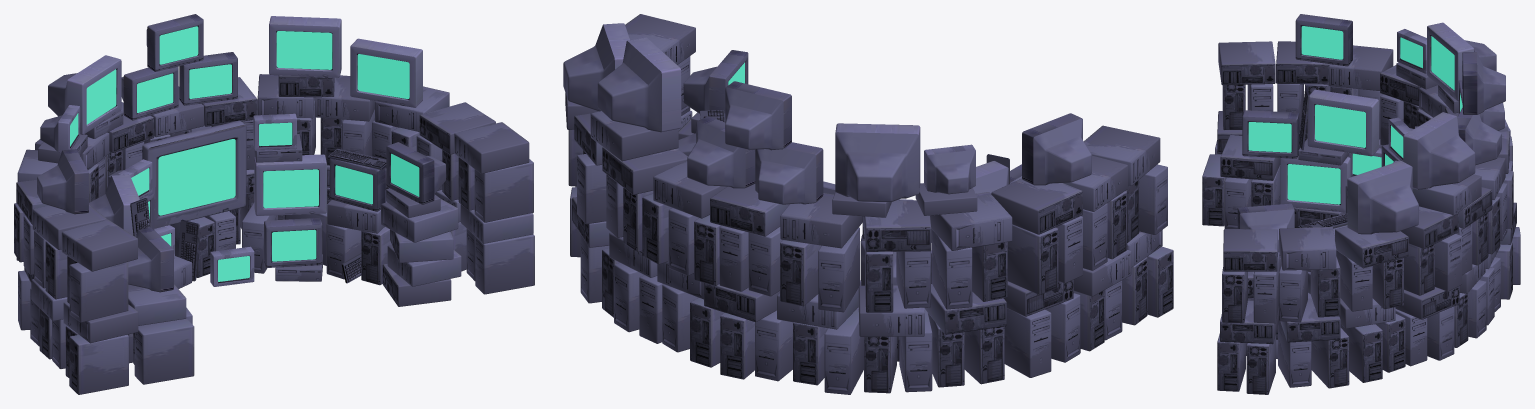
The model's file is computers.glb.
3 renders of one model, left to right at view 1: azimuth 30°, elevation 25°; view 2: azimuth 150°, elevation 25°; view 3: azimuth 270°, elevation 25°, orthographic. The views are drawn at different scales.
Parts seen in each view (by area): view 1: Screen4.001, Monitor4.001, PC2.048, PC2.038, PC2.035, PC1.044, PC1.041, PC2.039, PC2.037, Monitor3.007, Monitor2.009, Monitor3.004 (+78 smaller); view 2: Monitor3.007, Monitor3.003, Monitor2.006, Monitor2.009, Monitor2.005, Monitor2.007, PC2.005, Monitor3.004, PC1.006, PC1.007, PC2.014, PC1.015 (+63 smaller); view 3: Monitor3.004, Monitor3.003, PC2.039, PC1.036, PC2.037, Monitor3.001, PC1.032, Monitor2.006, PC2.005, Screen3.005, Monitor3.007, Screen3.001 (+70 smaller).
Boxes of the visible parts, <box> form: Screen4.001: <box>158,139,235,215</box>; Monitor4.001: <box>142,120,246,228</box>; PC2.048: <box>134,318,194,384</box>; PC2.038: <box>69,334,128,394</box>; PC2.035: <box>475,234,534,294</box>; PC1.044: <box>69,262,128,322</box>; PC1.041: <box>474,159,533,222</box>; PC2.039: <box>61,219,137,271</box>; PC2.037: <box>454,122,529,173</box>; Monitor3.007: <box>48,55,121,134</box>; Monitor2.009: <box>37,149,88,214</box>; Monitor3.004: <box>350,38,422,107</box>; Monitor3.007: <box>835,123,920,202</box>; Monitor3.003: <box>597,37,681,132</box>; Monitor2.006: <box>725,81,791,150</box>; Monitor2.009: <box>1022,113,1091,185</box>; Monitor2.005: <box>755,142,823,204</box>; Monitor2.007: <box>687,116,755,188</box>; PC2.005: <box>991,178,1082,234</box>; Monitor3.004: <box>563,23,629,111</box>; PC1.006: <box>930,192,1012,250</box>; PC1.007: <box>1007,224,1058,294</box>; PC2.014: <box>780,193,862,248</box>; PC1.015: <box>863,200,931,251</box>; Monitor3.004: <box>1347,161,1418,234</box>; Monitor3.003: <box>1403,112,1475,189</box>; PC2.039: <box>1218,41,1275,85</box>; PC1.036: <box>1279,227,1336,270</box>; PC2.037: <box>1223,229,1277,271</box>; Monitor3.001: <box>1307,89,1378,156</box>; PC1.032: <box>1335,226,1408,268</box>; Monitor2.006: <box>1462,52,1505,114</box>; PC2.005: <box>1328,45,1393,90</box>; Screen3.005: <box>1287,164,1340,204</box>; Monitor3.007: <box>1427,22,1496,101</box>; Screen3.001: <box>1315,104,1365,147</box>.
Size of the model in its own units: 14.43 by 6.69 by 8.81.
Materials: 2 (1 with a texture image).
